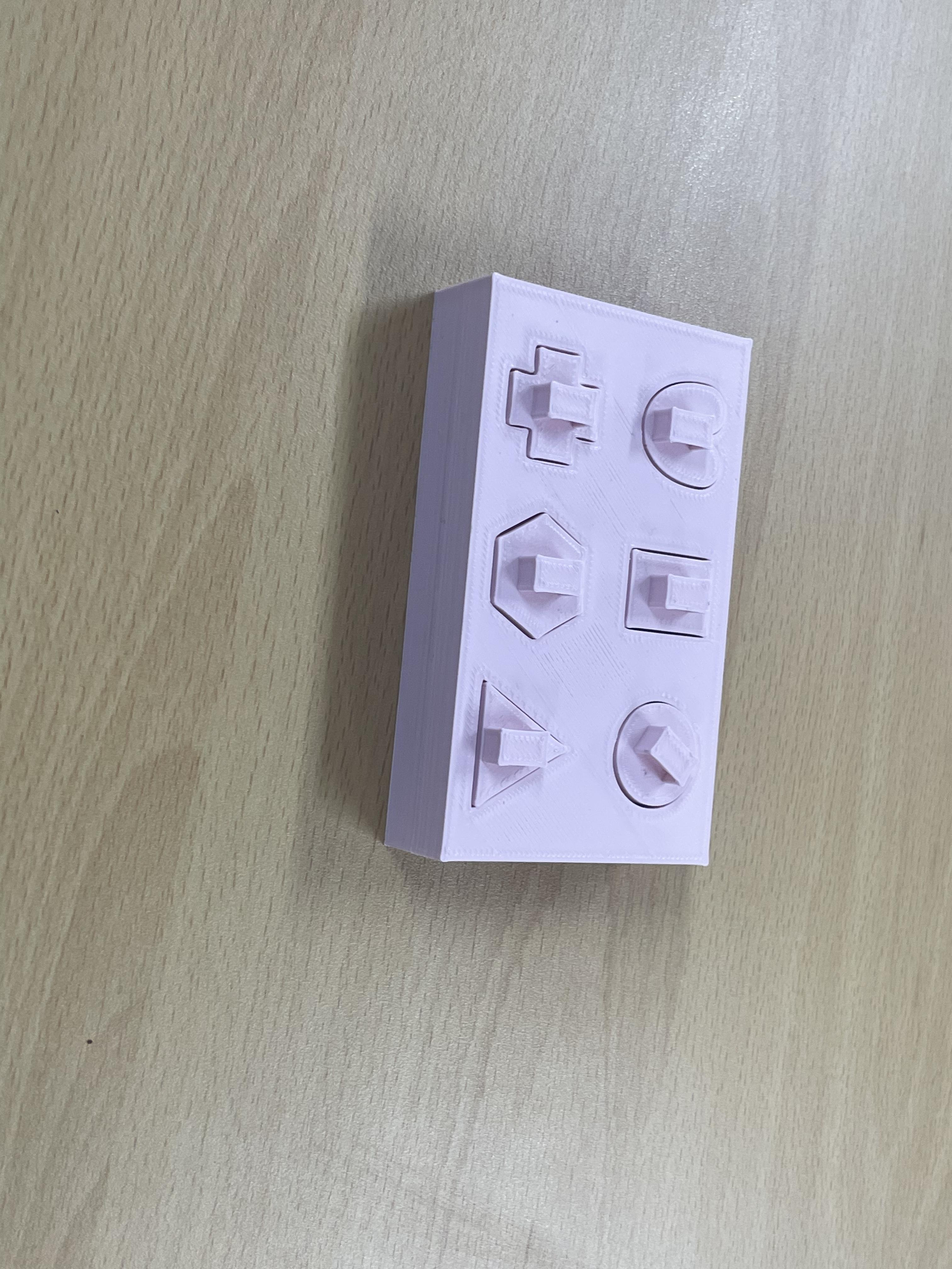solved: (375, 252, 762, 893)
